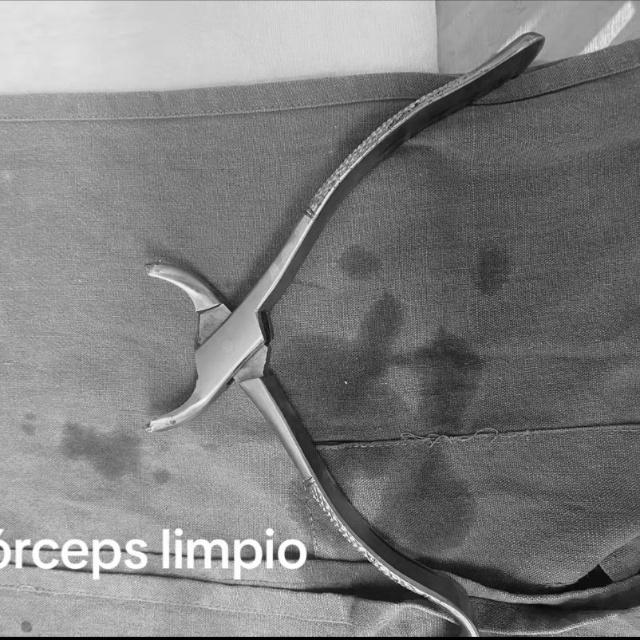forceps: (148, 33, 639, 637)
